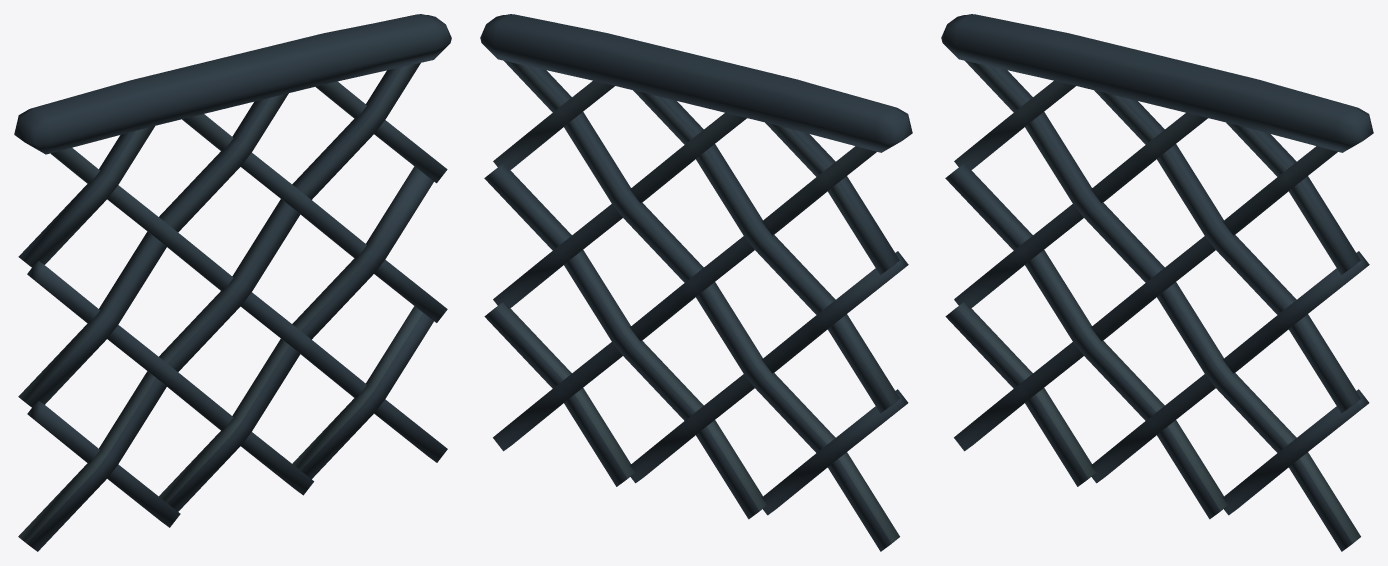
The model's file is Metal_Fence_Grid_Frame1.fbx.
3 views of the same model, side by side, from view 1: azimuth 30°, elevation 25°; view 2: azimuth 150°, elevation 25°; view 3: azimuth 330°, elevation 25° (orthographic).
Visible parts, largest first — view 1: Metal_Fence_Grid_Frame1_LOD0; view 2: Metal_Fence_Grid_Frame1_LOD0; view 3: Metal_Fence_Grid_Frame1_LOD0.
Part boxes in pixels (box(x1,y1,x2,y2)): Metal_Fence_Grid_Frame1_LOD0: box(14, 14, 451, 551); Metal_Fence_Grid_Frame1_LOD0: box(480, 14, 912, 551); Metal_Fence_Grid_Frame1_LOD0: box(941, 14, 1373, 551).
Size of what is drawn, in the model's own units: 1.07 by 1.06 by 0.1127.
